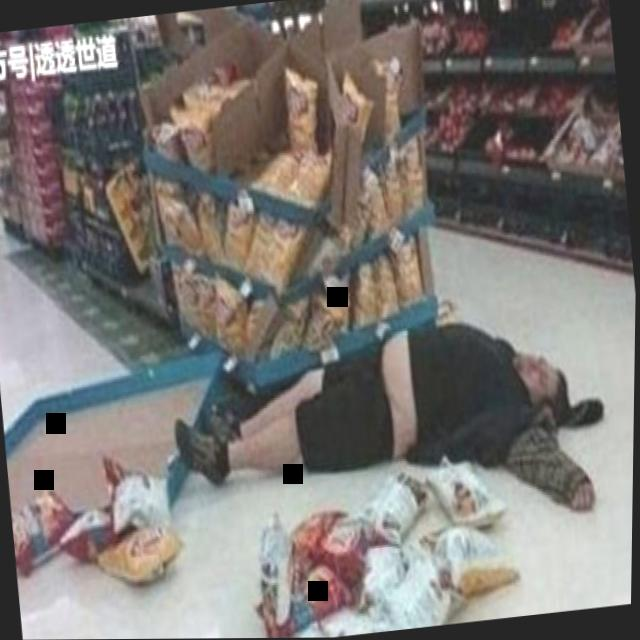Fall-Detected: (153, 272, 626, 545)
